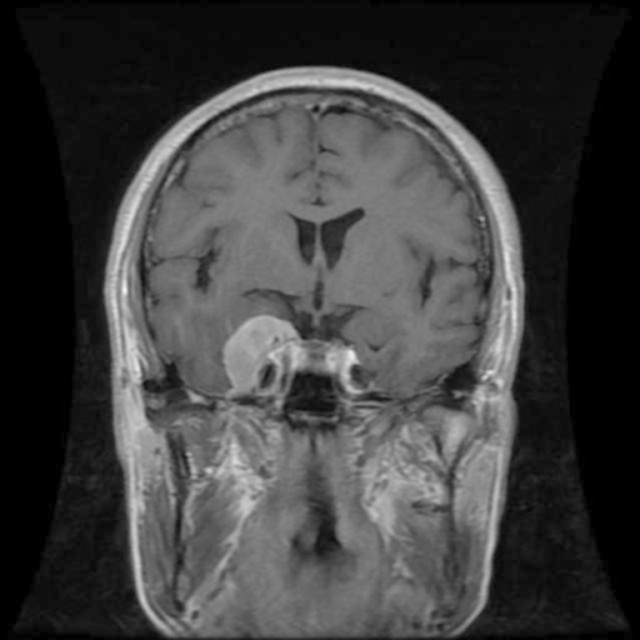meningioma tumor: (210, 305, 306, 416)
